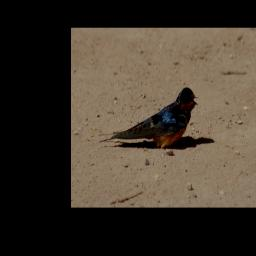Swallow: (99, 86, 198, 147)
